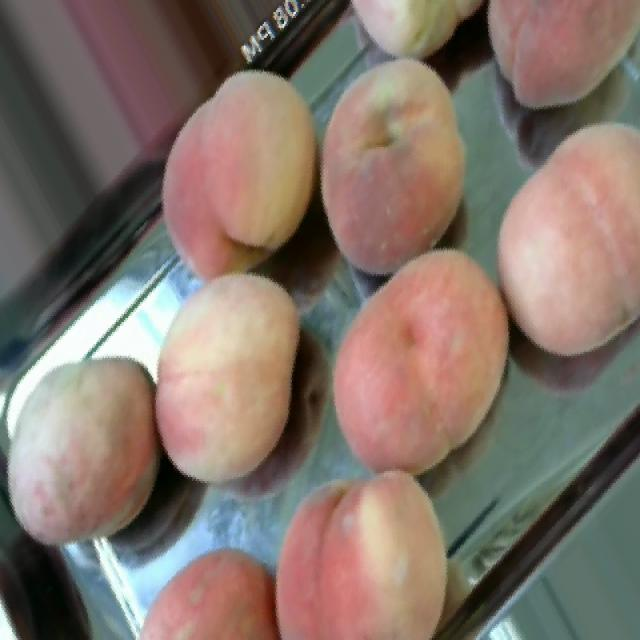Fruit: (2, 0, 280, 240), (319, 229, 533, 491), (131, 38, 320, 300), (470, 95, 640, 375), (314, 32, 494, 296), (139, 258, 321, 503), (264, 457, 477, 640), (0, 332, 164, 564), (469, 0, 640, 133), (121, 532, 281, 640)
